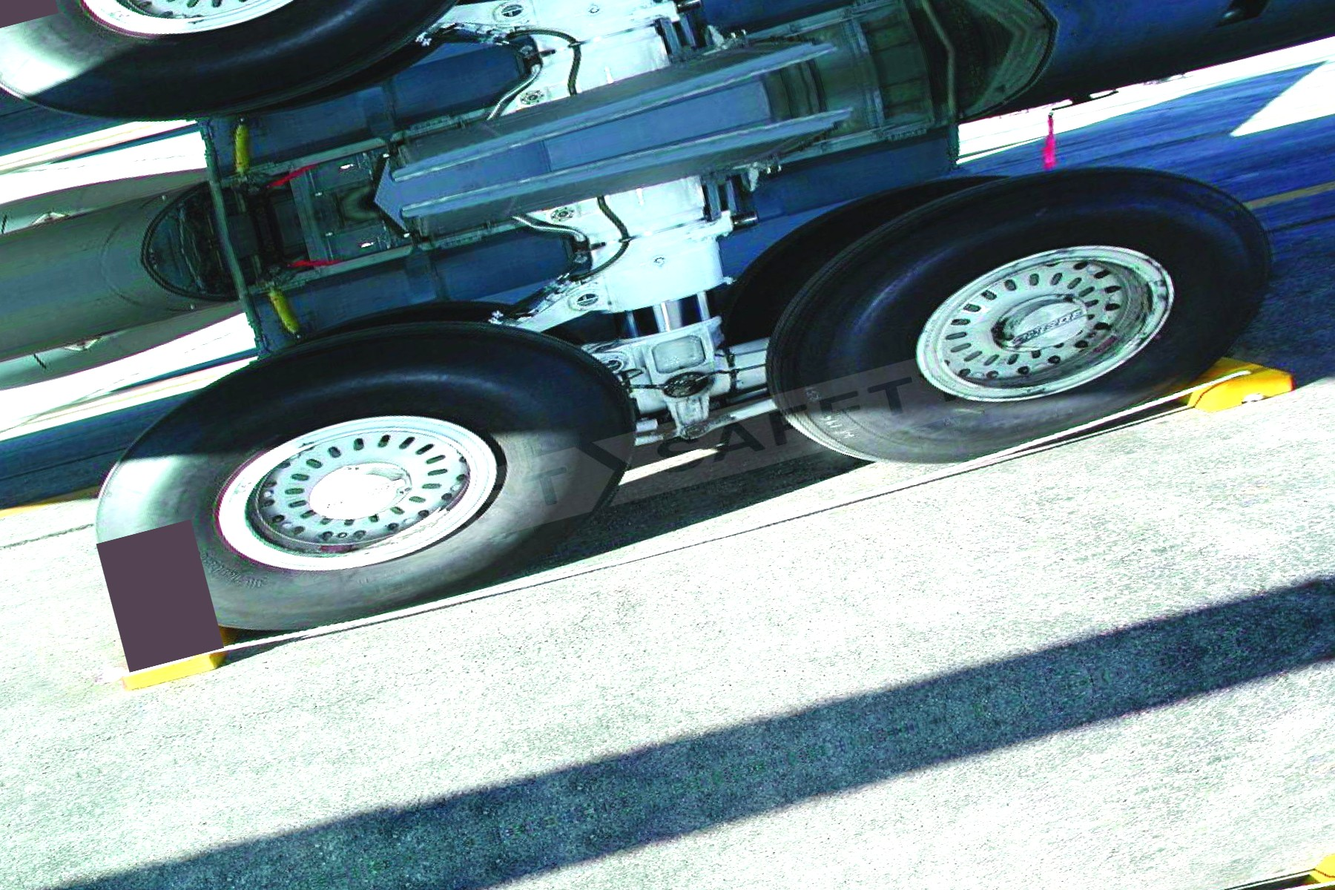chock: (106, 576, 256, 693), (1155, 318, 1305, 426)
wheel: (59, 264, 655, 674), (727, 116, 1297, 502), (0, 0, 526, 180), (696, 158, 1034, 349), (212, 30, 464, 131), (275, 273, 527, 374)
